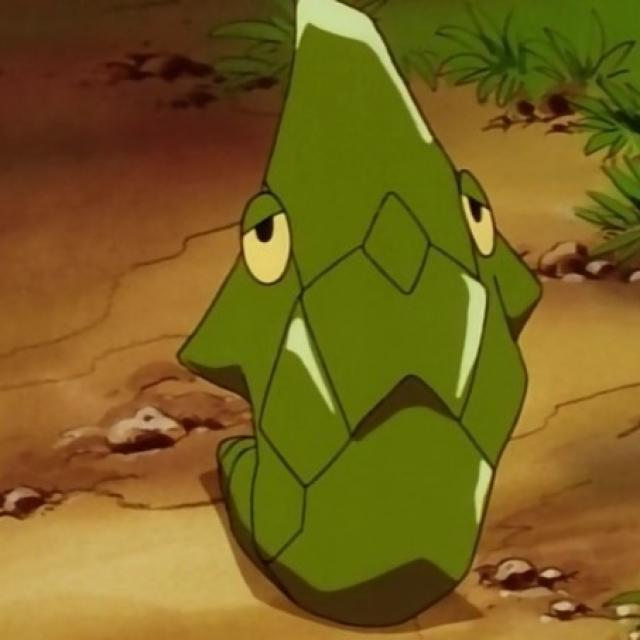Metapod: (180, 0, 544, 625)
